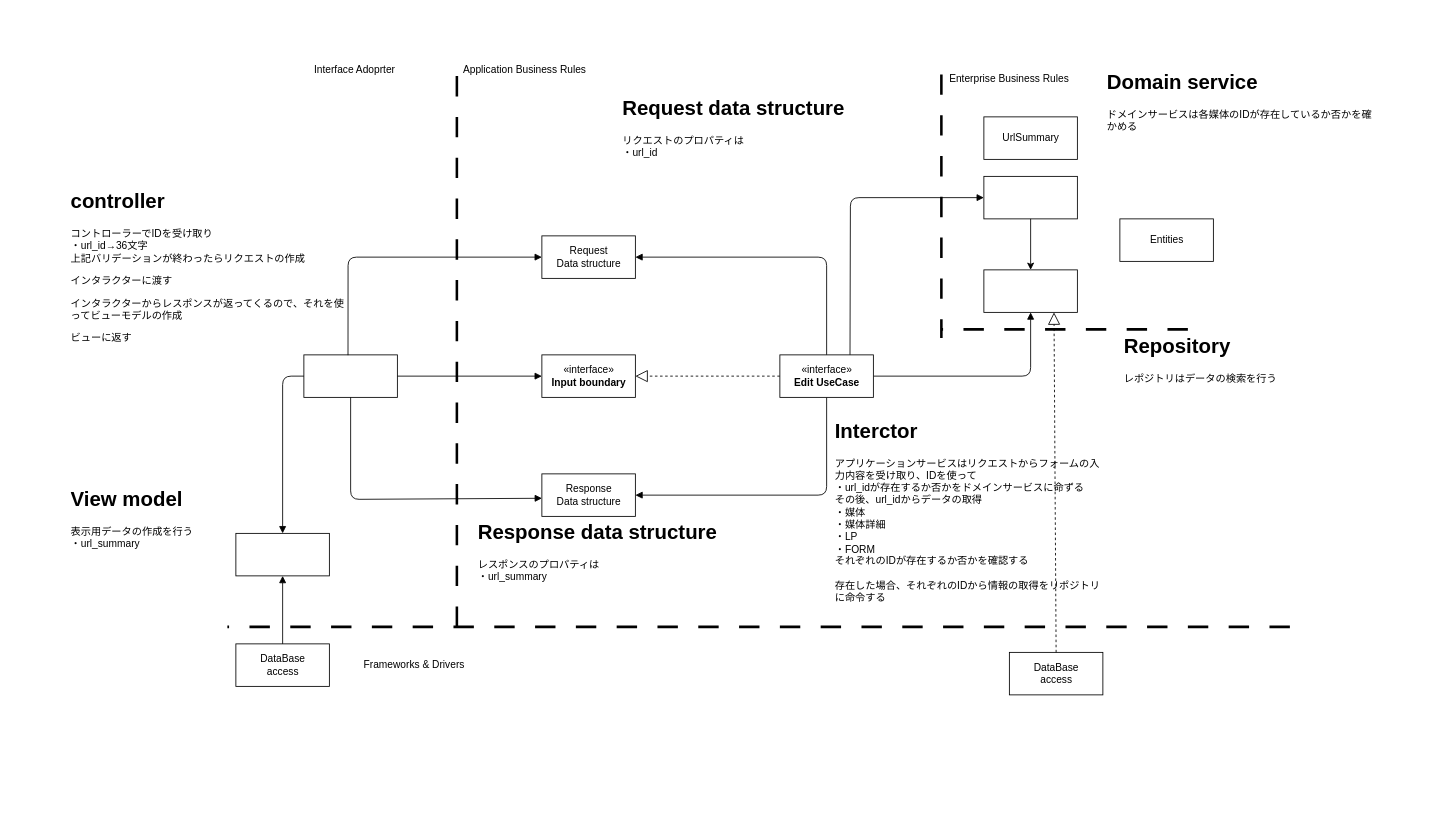
This 1440x819 diagram has some shape labels left out. The centre of each missing label's shape, as x and y in pixels:
Controller: (350,375)
Domain Service: (1030,197)
ViewModel Data structure: (282,554)
«interface» Repository: (1030,290)
